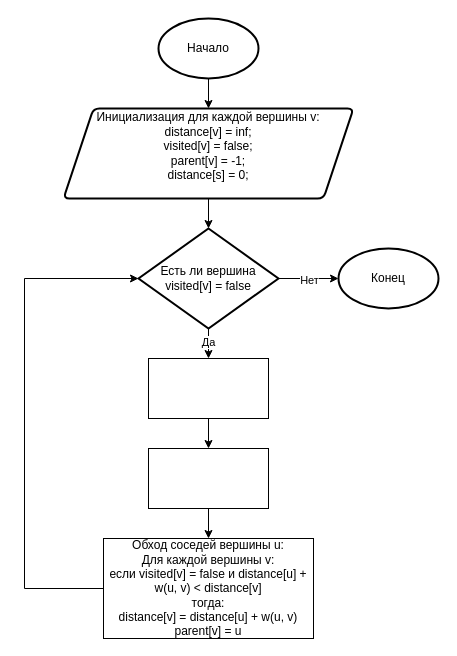
The diagram is 457 pixels wide and 656 high, and some of its shapes have lost their labels. The shapes that lost their labels are listed below. From the top down, each one's box as (x1, y1, x2, y2) in pixels, then its label:
(148, 358, 268, 418): Выбор вершины u: visited[u] = false и минимальный distance[u]
(148, 448, 268, 508): Пометить посещение visited[u] = true
